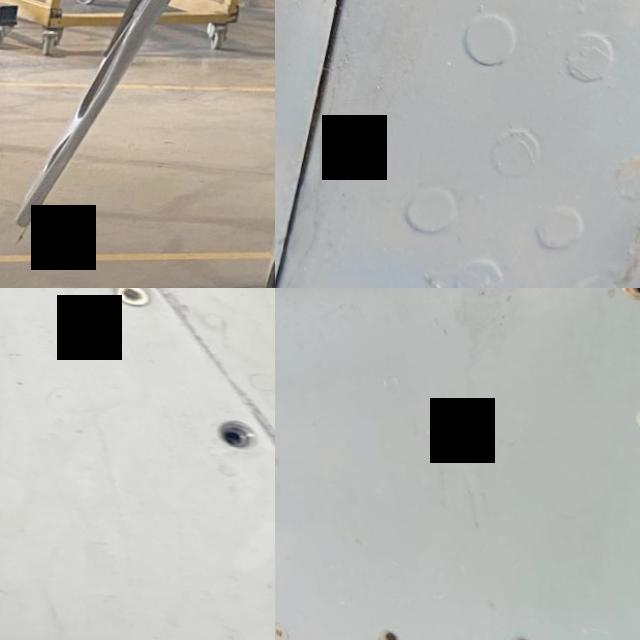Missing_Fastener: (354, 612, 416, 640), (209, 418, 258, 452), (484, 620, 554, 640), (619, 387, 640, 450), (600, 288, 640, 319)
